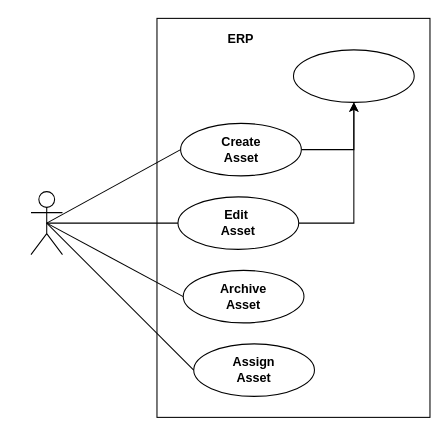
The diagram is 448 pixels wide and 436 high, and some of its shapes have lost their labels. The shapes that lost their labels are listed below. From the top down, each one's box as (x1, y1, x2, y2) in pixels, then its label:
(292, 49, 414, 102): Manage Asset {abstract}
(30, 191, 62, 255): Secretary
